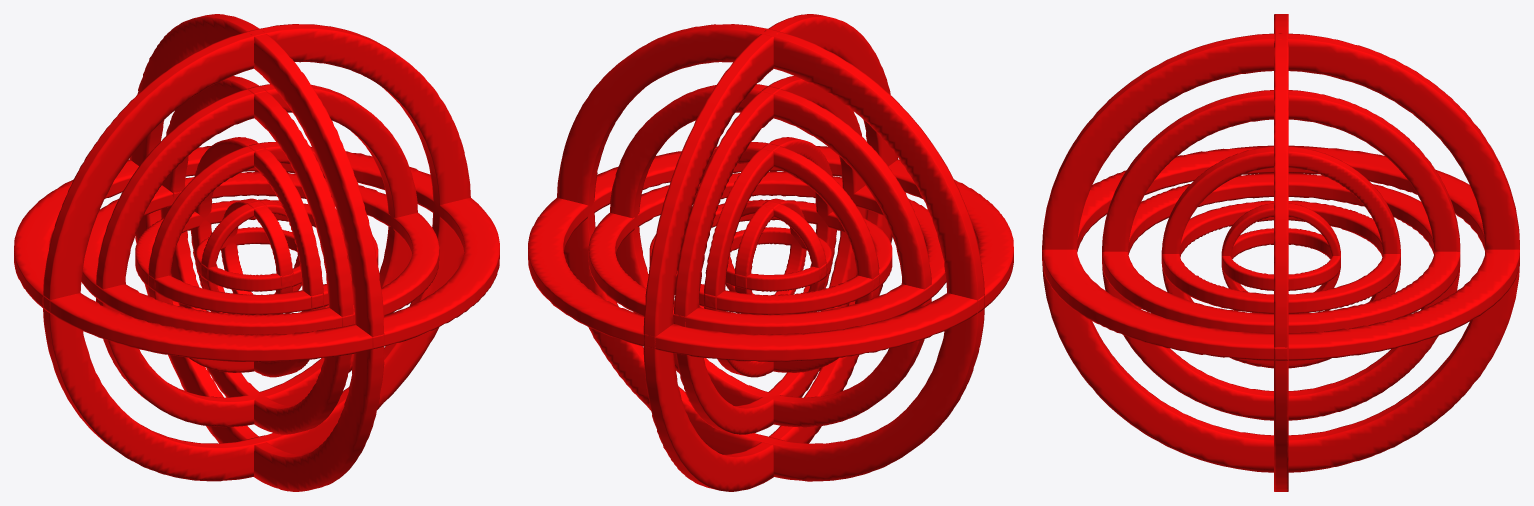
File: Gyroscope.fbx
3 renders of one model, left to right at view 1: azimuth 30°, elevation 25°; view 2: azimuth 150°, elevation 25°; view 3: azimuth 270°, elevation 25°, orthographic.
Parts seen in each view (by area): view 1: Circle.033; view 2: Circle.033; view 3: Circle.033.
Part boxes in pixels (box(x1,y1,x2,y2)): Circle.033: box(14, 14, 499, 491); Circle.033: box(528, 14, 1013, 491); Circle.033: box(1042, 14, 1519, 491).
Bounding box in the file's own units: 64.79 × 64.8 × 64.7.
